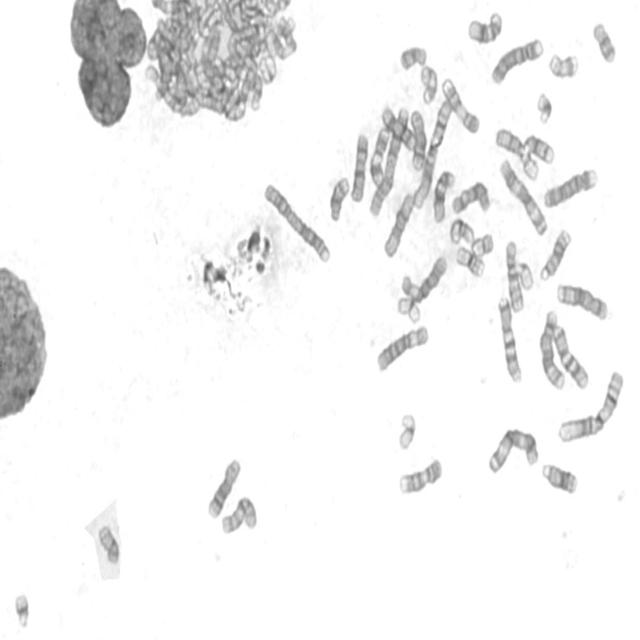A1: (556, 365, 626, 444), (411, 94, 454, 210)
A2: (260, 178, 332, 265), (366, 102, 411, 218)
A3: (496, 154, 550, 237), (485, 422, 541, 476)
B4: (489, 33, 545, 87), (542, 162, 600, 210)
B5: (537, 306, 567, 392), (554, 278, 610, 322)
C10: (502, 235, 526, 314), (219, 491, 259, 536)
C11: (377, 106, 418, 154), (367, 124, 390, 188)
C12: (465, 5, 504, 46), (431, 166, 456, 225)
C6: (374, 320, 431, 374), (398, 250, 448, 304)
C7: (551, 320, 591, 390), (494, 292, 524, 384)
C8: (205, 453, 242, 521), (408, 105, 428, 172)
C9: (439, 74, 482, 136), (396, 452, 445, 496)
D13: (538, 223, 573, 282), (539, 458, 579, 497)
D14: (323, 176, 356, 226), (522, 129, 556, 166)
D15: (380, 191, 419, 260), (492, 117, 526, 157)
E16: (453, 241, 486, 279), (447, 214, 475, 247)
E17: (96, 520, 124, 570), (546, 47, 580, 81)
E18: (589, 15, 618, 65), (397, 40, 429, 72)
F19: (396, 407, 418, 452), (394, 292, 422, 324)
F20: (418, 61, 439, 105), (470, 229, 495, 259)
G21: (11, 586, 31, 630), (534, 87, 554, 126)
G22: (515, 256, 536, 291), (519, 148, 540, 183)
X: (448, 176, 492, 216), (348, 128, 369, 204)
